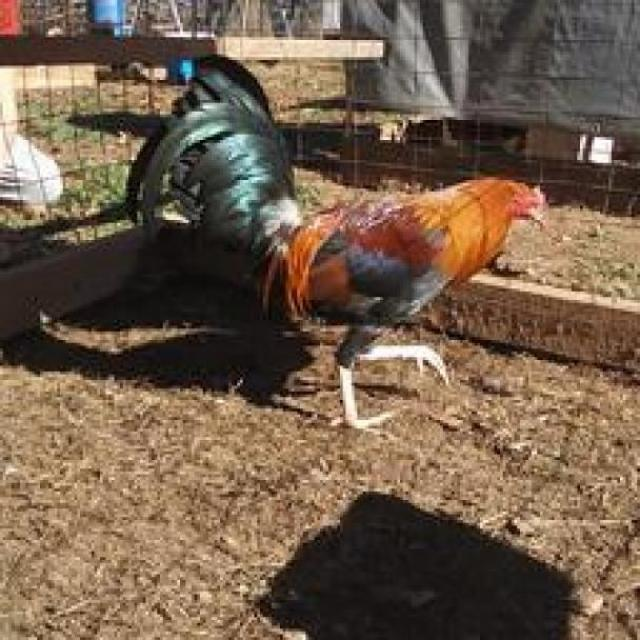Chicken: (122, 33, 603, 460)
